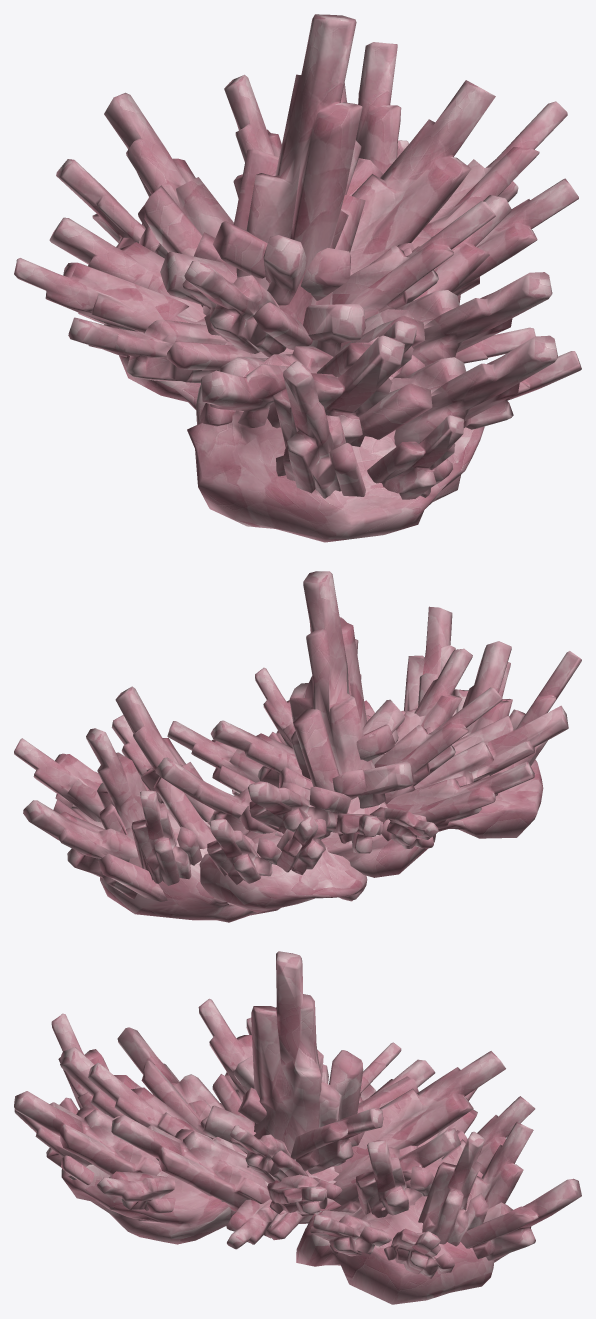
Rendered from Quartz_01.FBX.
The picture shows the model from 3 angles, top to bottom: view 1: azimuth 30°, elevation 25°; view 2: azimuth 150°, elevation 25°; view 3: azimuth 270°, elevation 25°; orthographic projection. The views are drawn at different scales.
Parts seen in each view (by area): view 1: Crystal4_Big; view 2: Crystal4_Big; view 3: Crystal4_Big.
Boxes of the visible parts, x1,y1,x2,y2 form: Crystal4_Big: (14, 14, 581, 542); Crystal4_Big: (14, 571, 581, 922); Crystal4_Big: (14, 951, 581, 1304).
Size of the model in its own units: 34.25 by 22.98 by 39.32.
